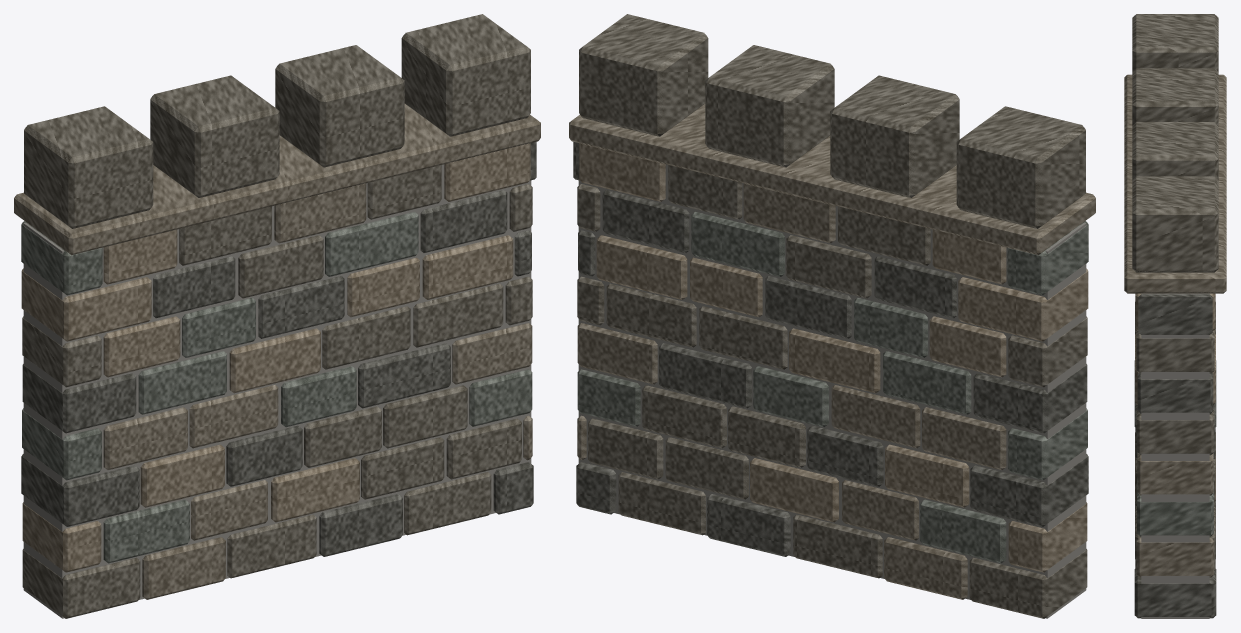
Rendered from wall_battlements_4m.glb.
3 renders of one model, left to right at view 1: azimuth 30°, elevation 25°; view 2: azimuth 150°, elevation 25°; view 3: azimuth 270°, elevation 25°, orthographic. The views are drawn at different scales.
Parts seen in each view (by area): view 1: Wall_Battlements_4m_052, Wall_Battlements_4m_000, Wall_Battlements_4m_053, Wall_Battlements_4m_056, Wall_Battlements_4m_054, Wall_Battlements_4m_055, Wall_Battlements_4m_039, Wall_Battlements_4m_014, Wall_Battlements_4m_001, Wall_Battlements_4m_026, Wall_Battlements_4m_024, Wall_Battlements_4m_042 (+43 smaller); view 2: Wall_Battlements_4m_052, Wall_Battlements_4m_000, Wall_Battlements_4m_053, Wall_Battlements_4m_056, Wall_Battlements_4m_054, Wall_Battlements_4m_055, Wall_Battlements_4m_039, Wall_Battlements_4m_014, Wall_Battlements_4m_001, Wall_Battlements_4m_026, Wall_Battlements_4m_024, Wall_Battlements_4m_042 (+43 smaller); view 3: Wall_Battlements_4m_056, Wall_Battlements_4m_052, Wall_Battlements_4m_053, Wall_Battlements_4m_055, Wall_Battlements_4m_054, Wall_Battlements_4m_000, Wall_Battlements_4m_051, Wall_Battlements_4m_006, Wall_Battlements_4m_031, Wall_Battlements_4m_044, Wall_Battlements_4m_013, Wall_Battlements_4m_019 (+7 smaller).
Boxes of the visible parts, x1,y1,x2,y2 form: Wall_Battlements_4m_052: [14, 104, 540, 255]; Wall_Battlements_4m_000: [23, 164, 531, 618]; Wall_Battlements_4m_053: [24, 106, 153, 228]; Wall_Battlements_4m_056: [401, 14, 530, 136]; Wall_Battlements_4m_054: [150, 75, 279, 197]; Wall_Battlements_4m_055: [275, 45, 404, 167]; Wall_Battlements_4m_039: [21, 268, 151, 341]; Wall_Battlements_4m_014: [21, 454, 139, 526]; Wall_Battlements_4m_001: [22, 549, 140, 618]; Wall_Battlements_4m_026: [22, 364, 136, 433]; Wall_Battlements_4m_024: [358, 343, 450, 408]; Wall_Battlements_4m_042: [325, 212, 418, 276]; Wall_Battlements_4m_052: [569, 104, 1095, 255]; Wall_Battlements_4m_000: [578, 164, 1086, 618]; Wall_Battlements_4m_053: [956, 106, 1085, 228]; Wall_Battlements_4m_056: [579, 14, 708, 136]; Wall_Battlements_4m_054: [830, 75, 959, 197]; Wall_Battlements_4m_055: [705, 45, 834, 167]; Wall_Battlements_4m_039: [958, 268, 1088, 341]; Wall_Battlements_4m_014: [970, 454, 1088, 526]; Wall_Battlements_4m_001: [969, 549, 1087, 618]; Wall_Battlements_4m_026: [973, 364, 1087, 433]; Wall_Battlements_4m_024: [659, 343, 751, 408]; Wall_Battlements_4m_042: [691, 212, 784, 276]; Wall_Battlements_4m_056: [1132, 176, 1218, 272]; Wall_Battlements_4m_052: [1124, 74, 1226, 293]; Wall_Battlements_4m_053: [1132, 14, 1218, 71]; Wall_Battlements_4m_055: [1132, 122, 1218, 179]; Wall_Battlements_4m_054: [1132, 68, 1218, 125]; Wall_Battlements_4m_000: [1141, 293, 1209, 618]; Wall_Battlements_4m_051: [1138, 294, 1212, 334]; Wall_Battlements_4m_006: [1134, 569, 1216, 618]; Wall_Battlements_4m_031: [1136, 410, 1214, 454]; Wall_Battlements_4m_044: [1136, 330, 1214, 373]; Wall_Battlements_4m_013: [1136, 538, 1214, 577]; Wall_Battlements_4m_019: [1137, 477, 1213, 536].
Size of the model in its own units: 4.01 by 3.74 by 0.85.
6 materials, 5 textured.
